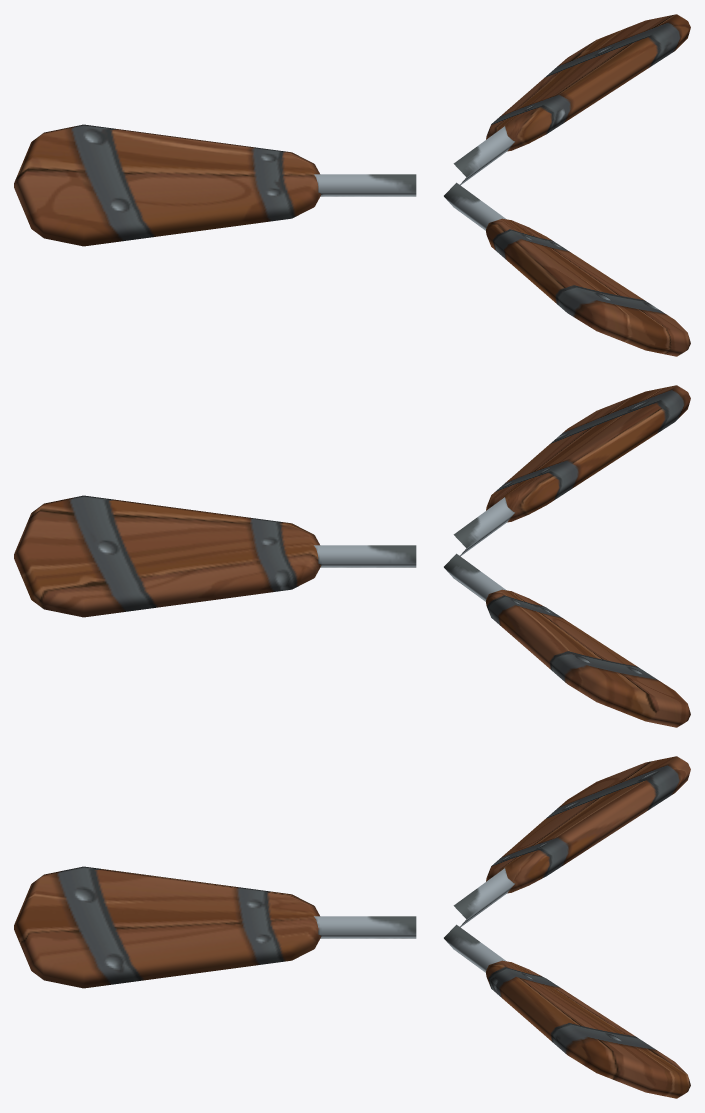
File: fuelTop_desktop.gltf
3 views of the same model, one above another, from view 1: azimuth 30°, elevation 25°; view 2: azimuth 150°, elevation 25°; view 3: azimuth 270°, elevation 25° (orthographic).
Visible parts, largest first — view 1: rotor.blades.001; view 2: rotor.blades.001; view 3: rotor.blades.001.
Part boxes in pixels (box(x1,y1,x2,y2)): rotor.blades.001: box(14, 14, 690, 356); rotor.blades.001: box(14, 385, 690, 727); rotor.blades.001: box(14, 756, 690, 1098).
Size of the model in its own units: 0.8699 by 0.096 by 0.7762.
1 material, 1 textured.
